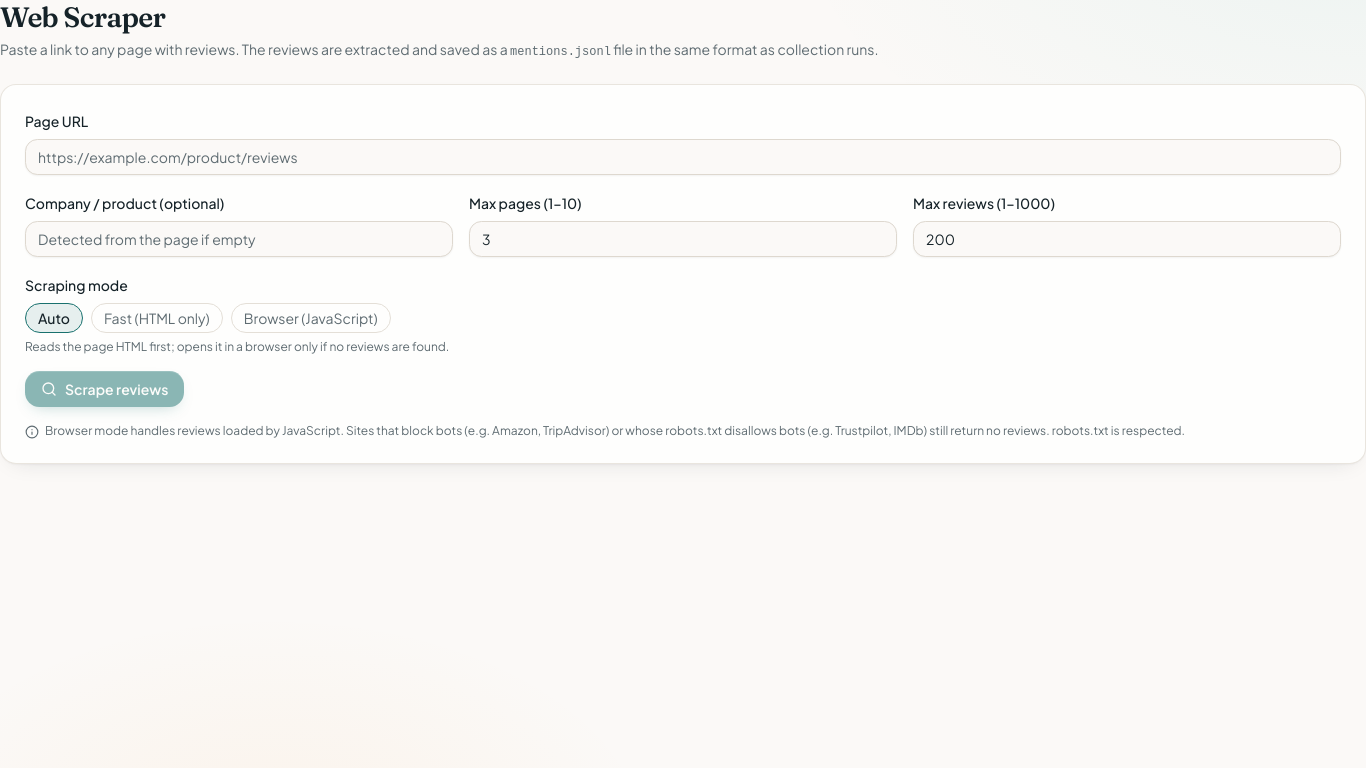
Test case: Web Scraper page › scrapes a URL and shows reviews, average and the download link
In the field with test id "scrape-url": (683, 157) [25, 139, 1341, 175], type "https://hotel.example/reviews"
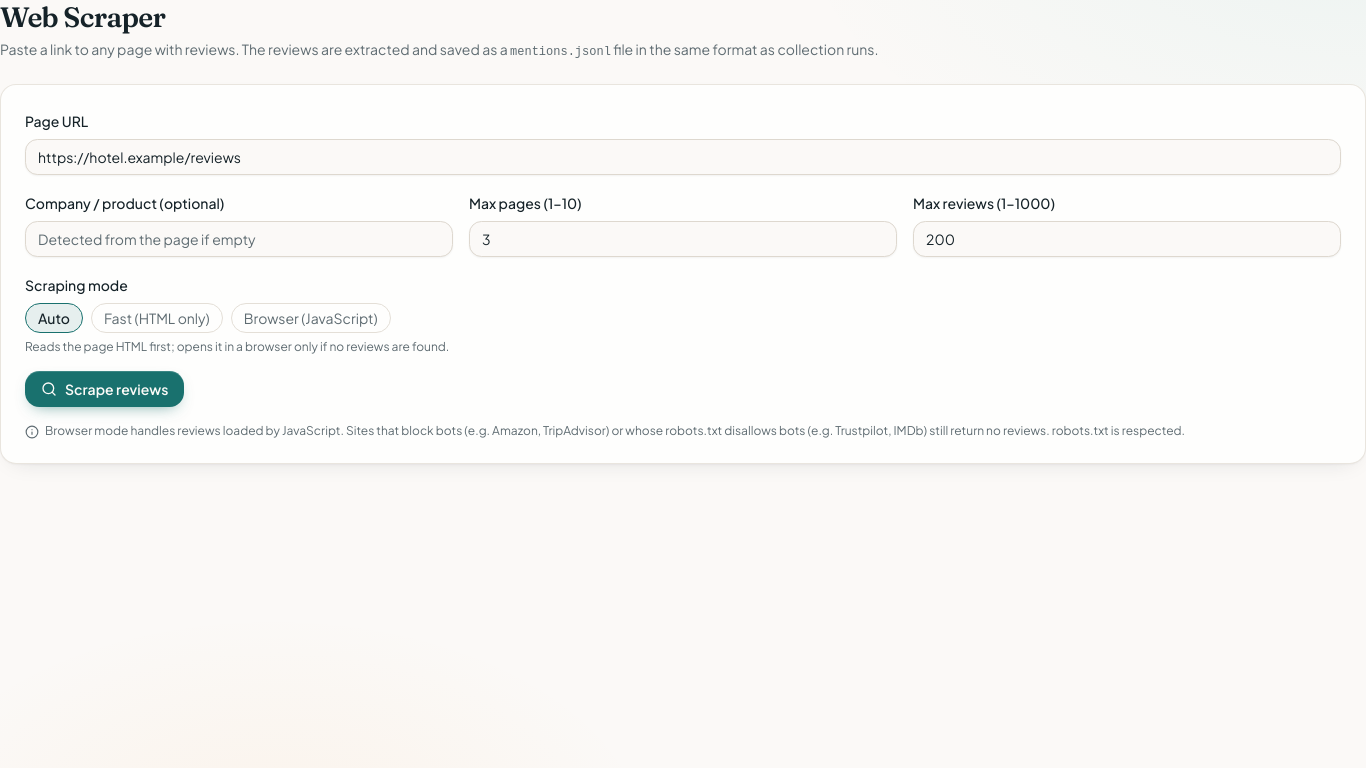
In the field with test id "scrape-company": (239, 239) [25, 221, 453, 257], type "Hotel Sunrise"
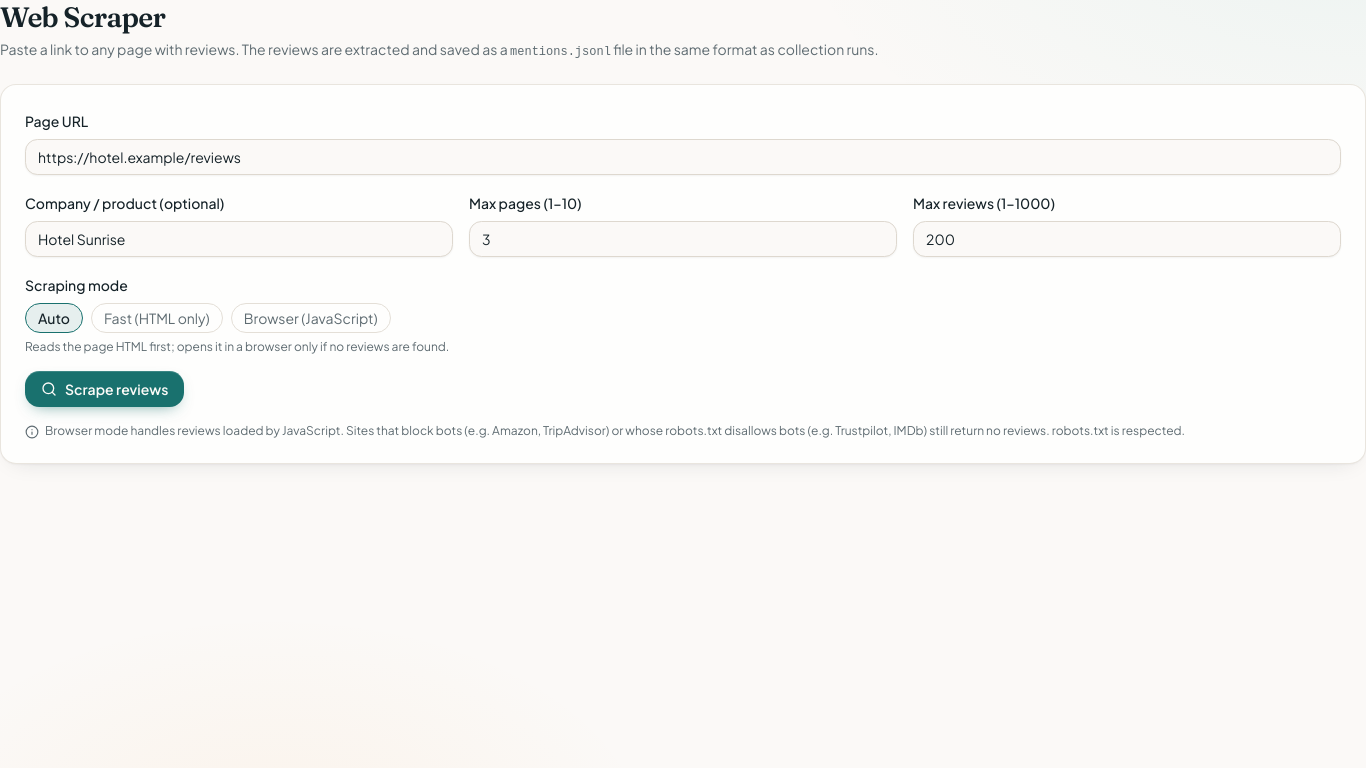
Click the button with test id "scrape-submit": (105, 389) [25, 371, 184, 407]
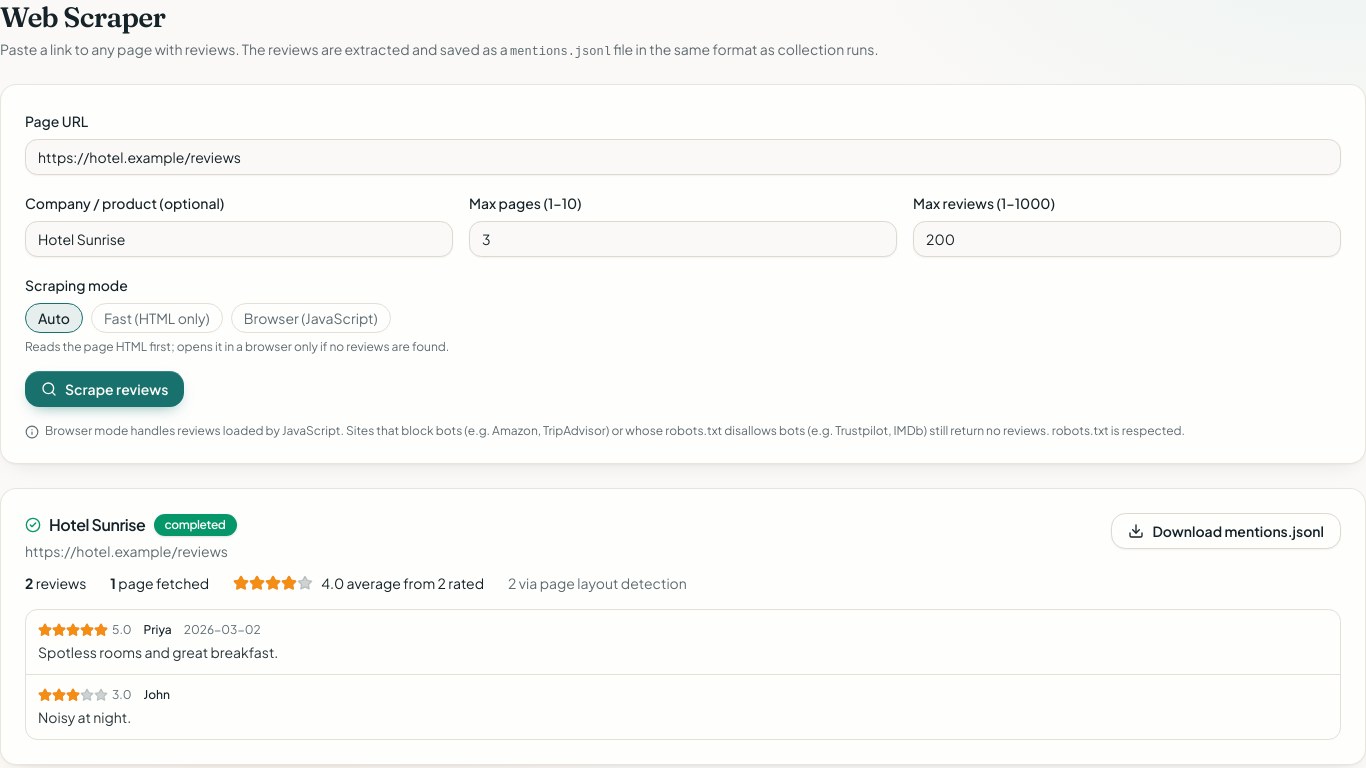
Now the element with test id "scrape-result" is shown, box [0, 488, 1365, 765]
Now the element with test id "scrape-stats" shows "2 reviews", box [25, 574, 687, 592]
Now the element with test id "scrape-average" reads "4.0 average from 2 rated", box [233, 573, 484, 593]
